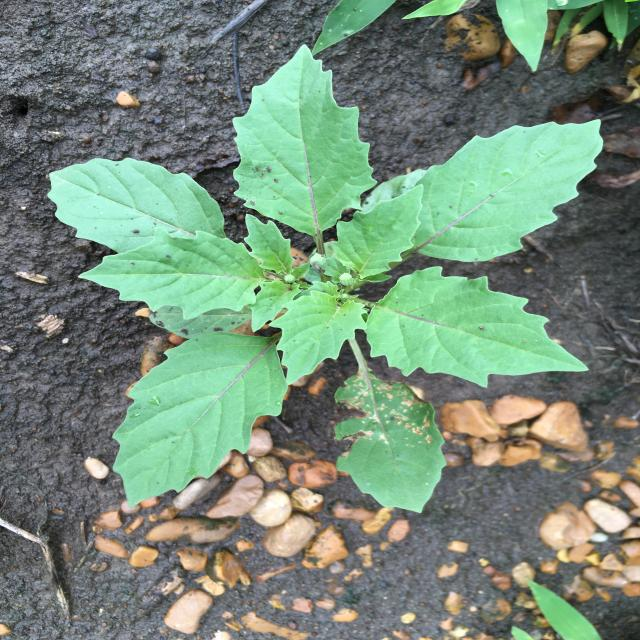CutleafGroundcherry: (46, 44, 604, 512)
